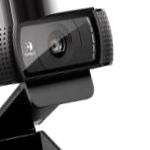webcam: (9, 7, 122, 87)
